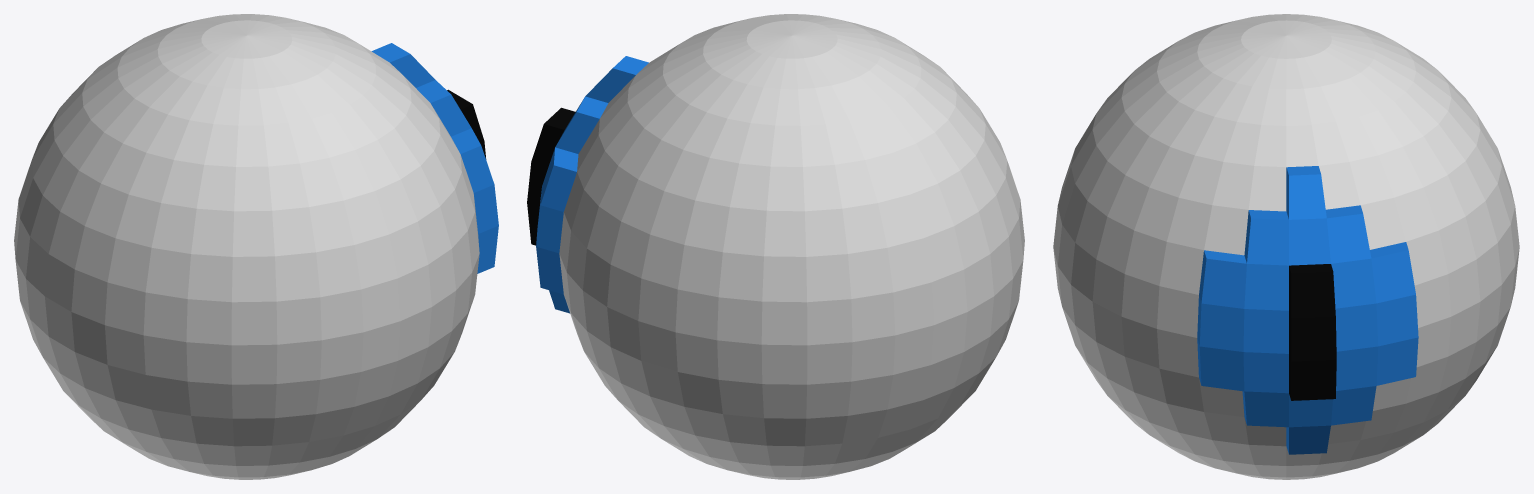
Rendered from eyeball.fbx.
3 renders of one model, left to right at view 1: azimuth 30°, elevation 25°; view 2: azimuth 150°, elevation 25°; view 3: azimuth 270°, elevation 25°, orthographic.
Parts seen in each view (by area): view 1: Sphere; view 2: Sphere; view 3: Sphere.
Boxes of the visible parts, x1,y1,x2,y2 form: Sphere: [14, 14, 498, 479]; Sphere: [527, 14, 1024, 479]; Sphere: [1053, 14, 1519, 479].
Bounding box in the file's own units: 221 × 200 × 200.
